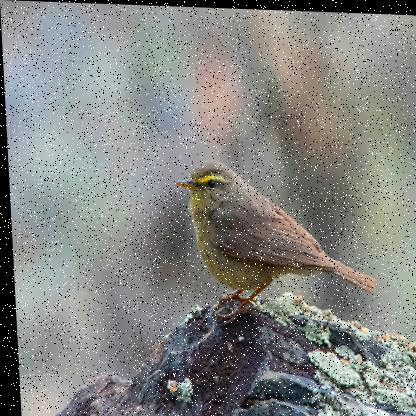Burung: (174, 158, 378, 314)
